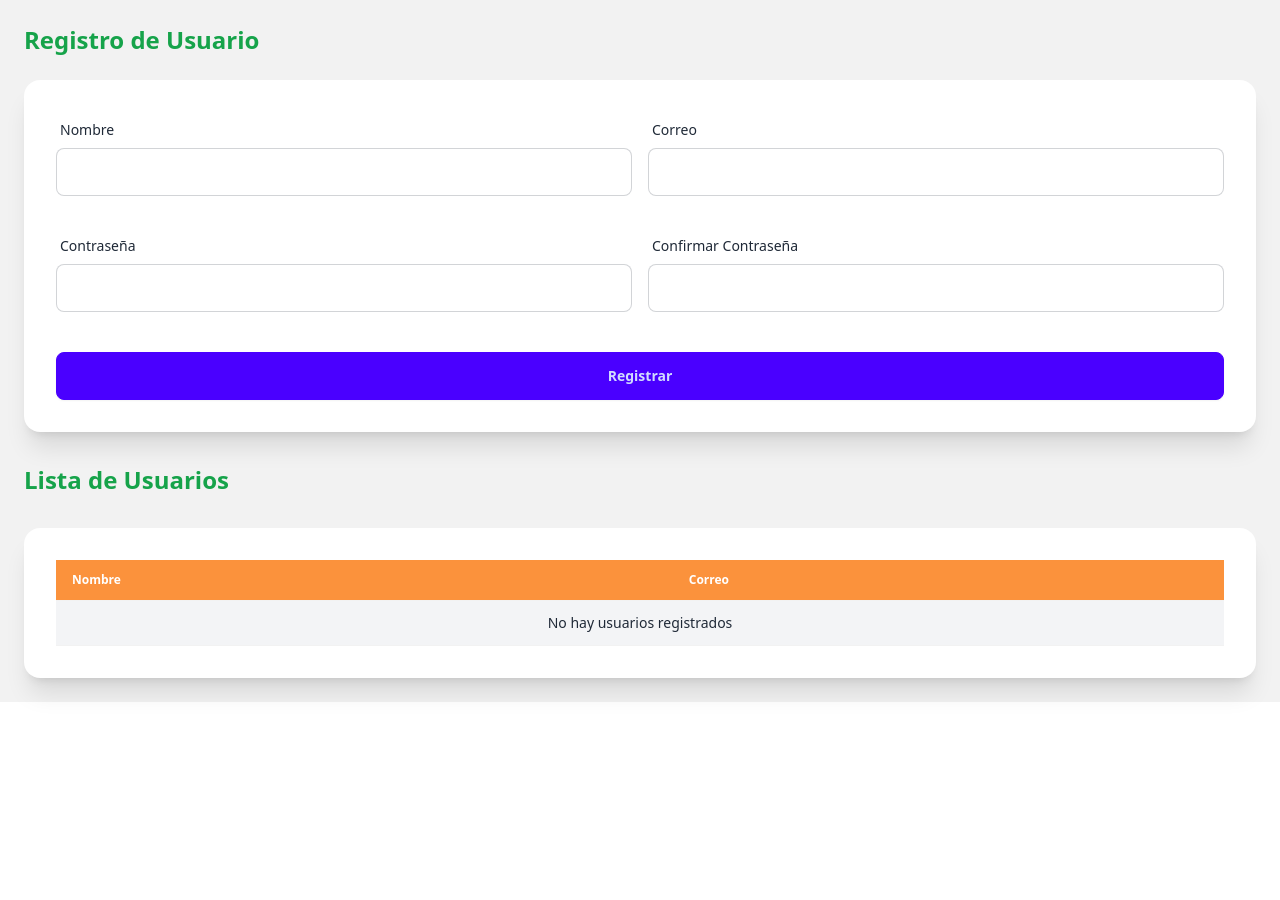
Test: RegisterUser Component › validates password complexity
In the password field labelled "Contraseña": (344, 288) [56,264,632,312], type "123"
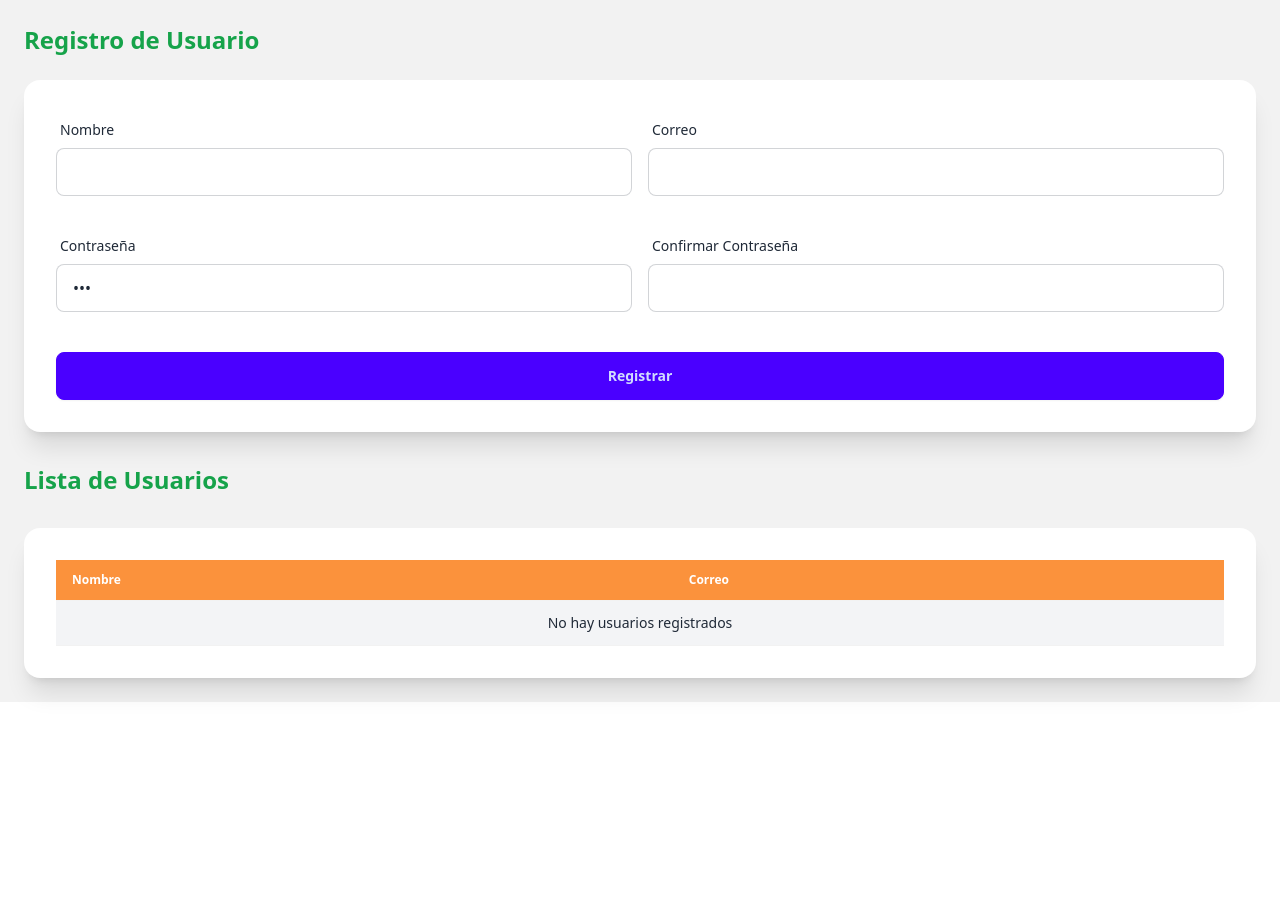
Click the button "Registrar": (640, 376) [56,352,1224,400]
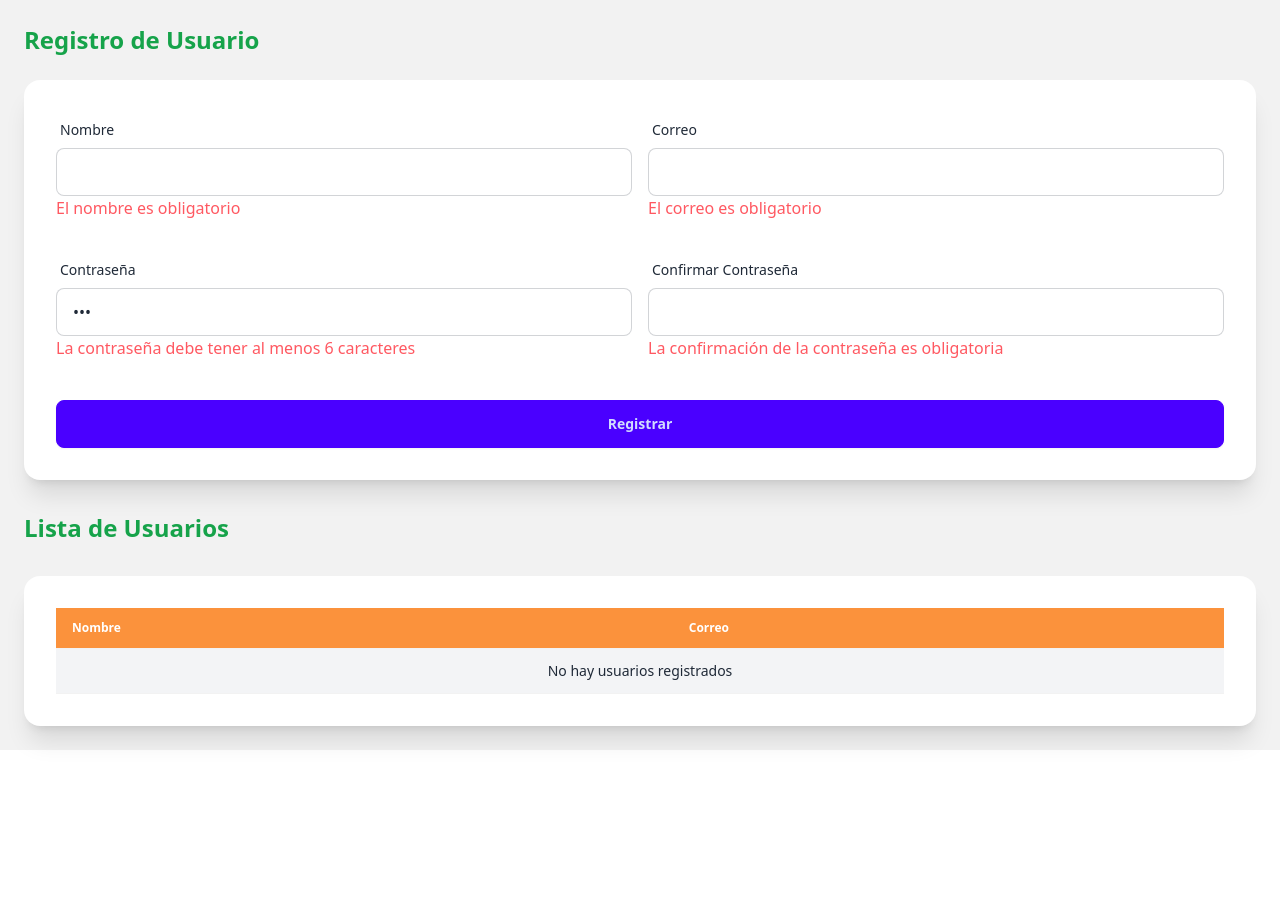
Now the text "La contraseña debe tener al menos 6 caracteres" is shown, box [56,337,415,359]
